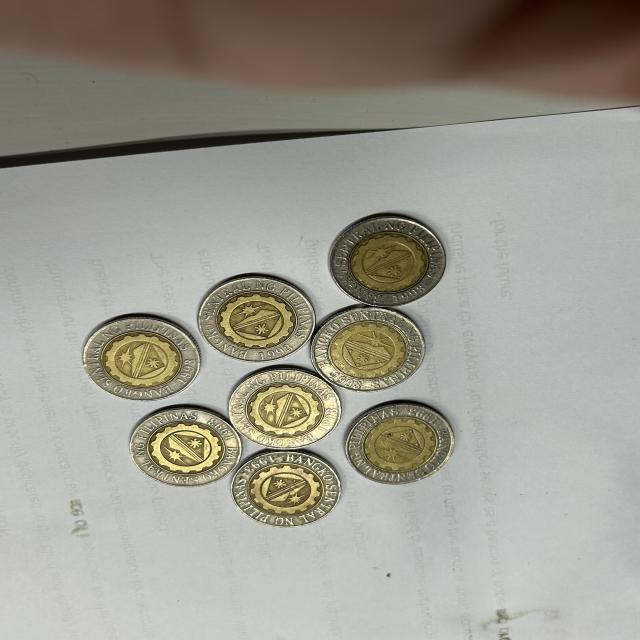10_Old_Back: (330, 221, 445, 299), (228, 376, 344, 451), (207, 283, 316, 362), (313, 313, 422, 385), (129, 414, 238, 483), (82, 322, 192, 389), (236, 457, 334, 528), (356, 405, 446, 473)
